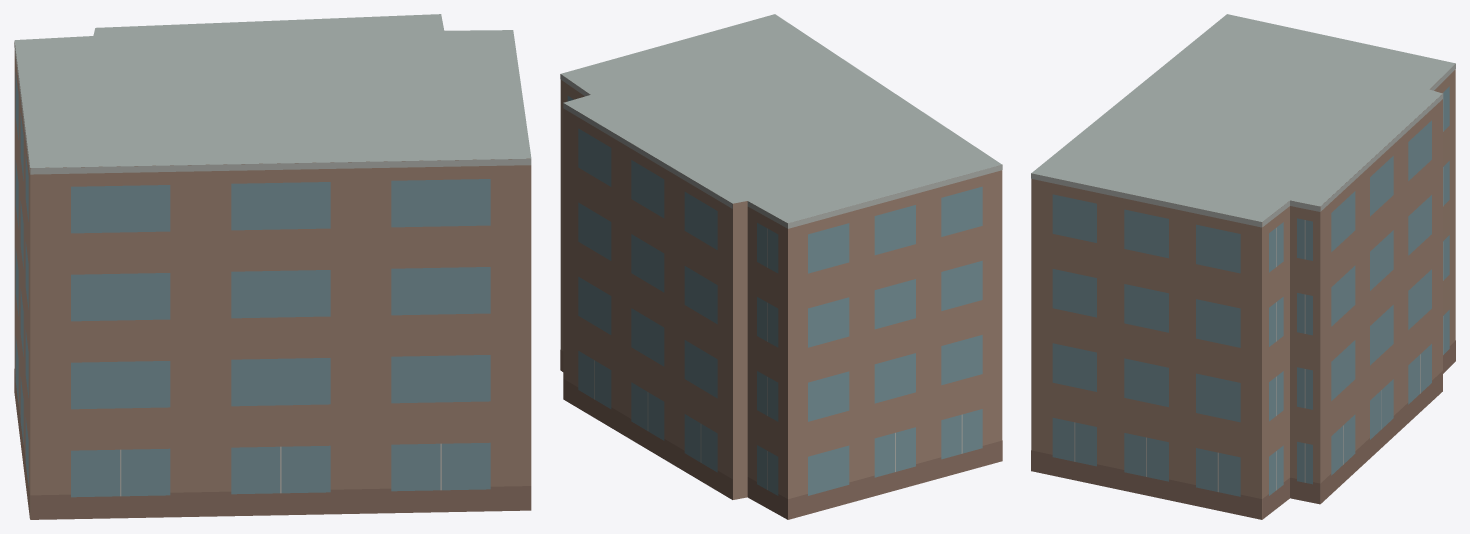
File: survey-upis-32674114.glb
The picture shows the model from 3 angles, left to right: view 1: azimuth 30°, elevation 25°; view 2: azimuth 150°, elevation 25°; view 3: azimuth 270°, elevation 25°; orthographic projection. The views are drawn at different scales.
Parts seen in each view (by area): view 1: survey-upis-32674114.tmp; view 2: survey-upis-32674114.tmp; view 3: survey-upis-32674114.tmp.
Part boxes in pixels (left/top/right/bottom): survey-upis-32674114.tmp: left=14, top=14, right=531, bottom=519; survey-upis-32674114.tmp: left=560, top=14, right=1002, bottom=519; survey-upis-32674114.tmp: left=1031, top=14, right=1455, bottom=519.
Size of the model in its own units: 19.87 by 13.25 by 17.13.
